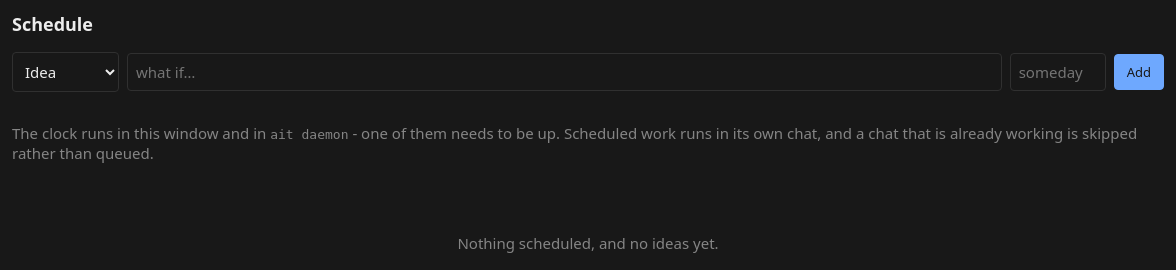
it: anything that is not an idea must say when
Select "Run" in the dropdown named "kind" at (66, 72), box [12, 52, 119, 92]
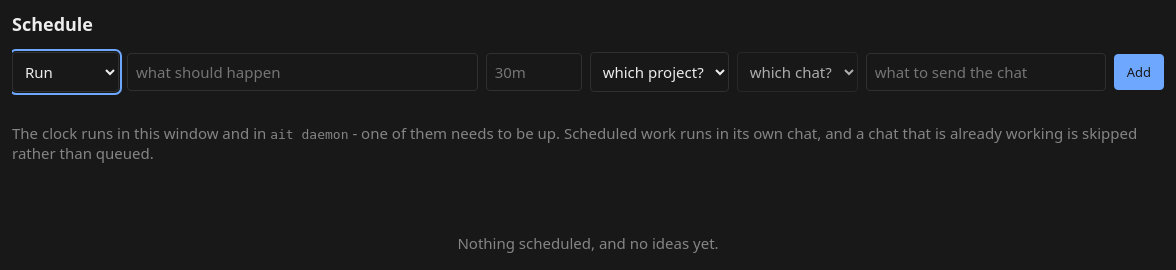
Type "nightly build" into the field named "title".
click(302, 72); type("nightly build")  # box [127, 53, 478, 91]
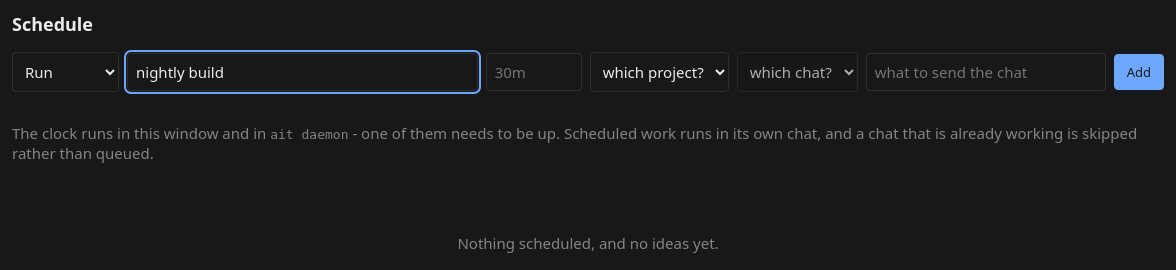
Click the button "Add".
click(1139, 72)  # box [1114, 54, 1164, 90]
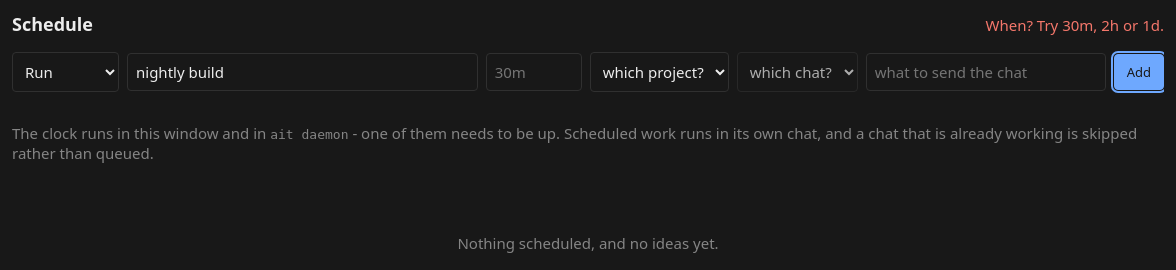
Expected: the text "When? Try 30m, 2h or 1d." is shown, [986, 15, 1164, 35]
